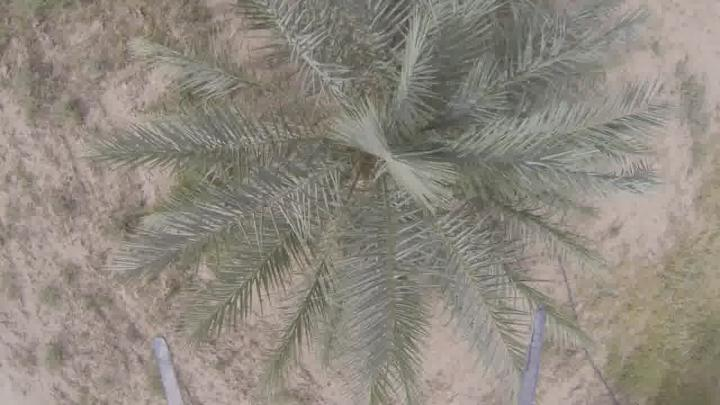Date-Palm-Crown: (229, 0, 510, 300)
